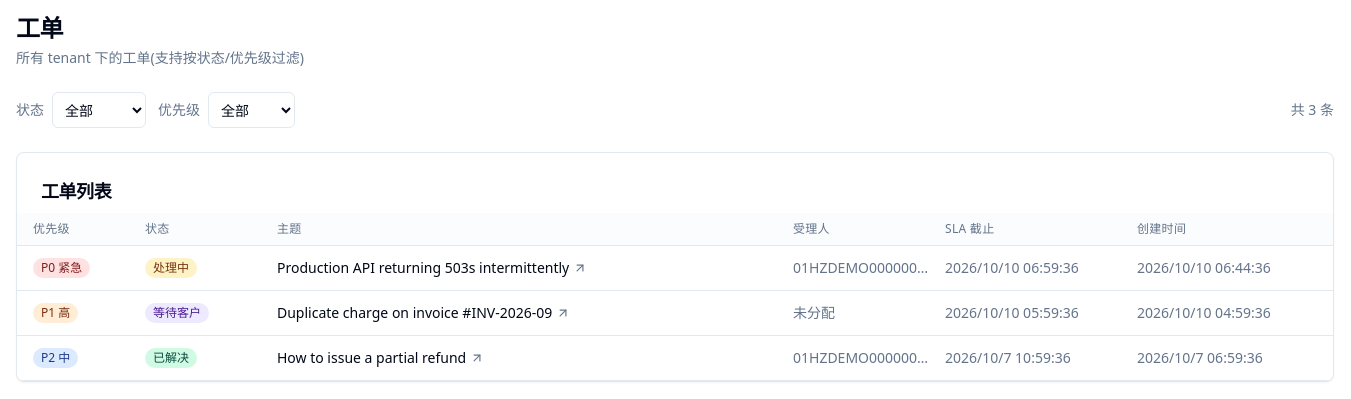
it: AdminTicketsPage › filters by status — selecting "in_progress" leaves only the matching row
Expected: the button with test id "ticket-row-01HZTCK0000000000000001" is shown, [17, 246, 1333, 291]
Select "处理中" in the dropdown with test id "tickets-filter-status" at [99, 110], box [52, 92, 146, 128]
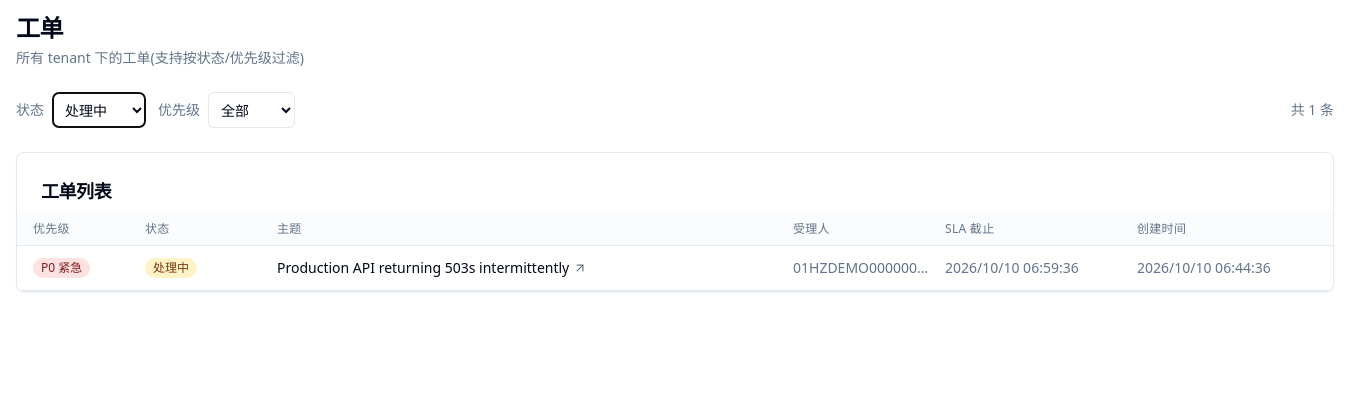
Expected: the button with test id "ticket-row-01HZTCK0000000000000001" is shown, [17, 246, 1333, 291]
Now the button with test id "ticket-row-01HZTCK0000000000000002" is gone
Now the button with test id "ticket-row-01HZTCK0000000000000003" is gone
